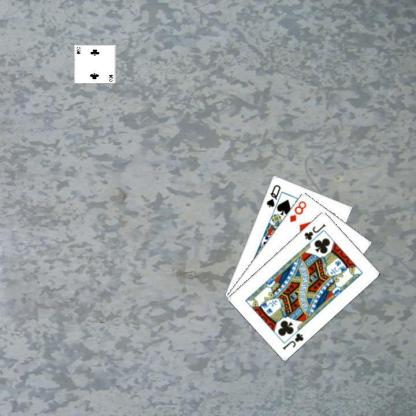8D: (288, 198, 308, 224)
JC: (302, 221, 327, 242), (280, 330, 305, 351)
QS: (263, 182, 282, 209)
